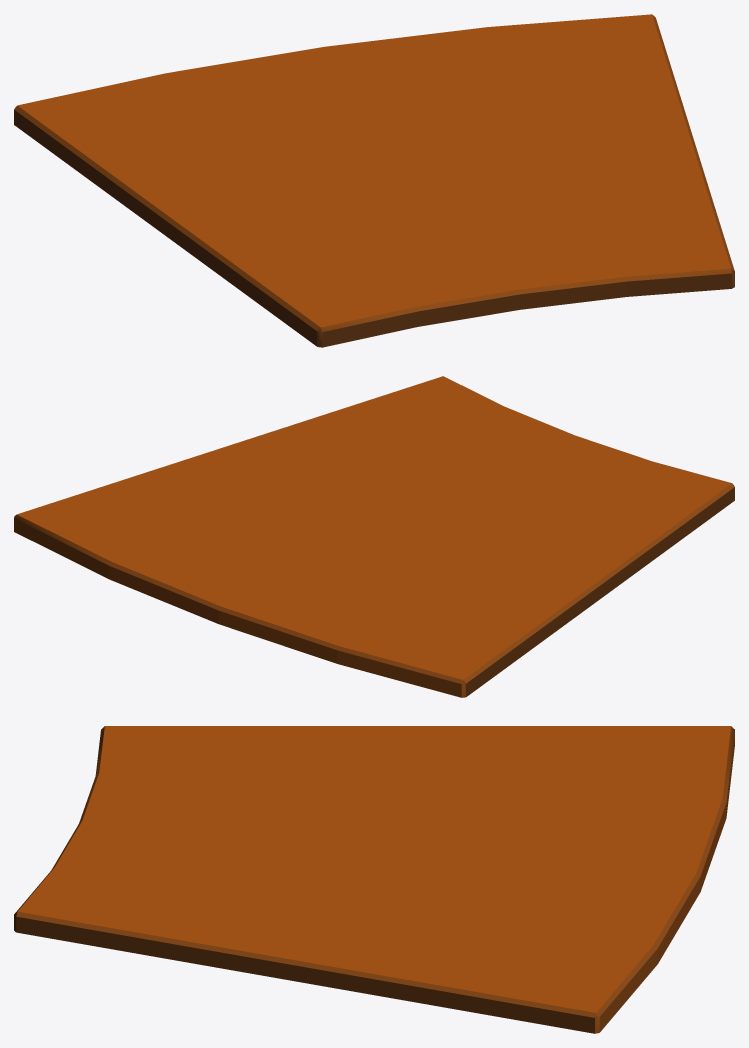
File: ring3.FBX
3 views of the same model, one above another, from view 1: azimuth 30°, elevation 25°; view 2: azimuth 150°, elevation 25°; view 3: azimuth 270°, elevation 25° (orthographic). The views are drawn at different scales.
Visible parts, largest first — view 1: ring3; view 2: ring3; view 3: ring3.
Boxes of the visible parts, x1=… form: ring3: x1=14, y1=14, x2=734, y2=347; ring3: x1=14, y1=376, x2=734, y2=697; ring3: x1=14, y1=726, x2=734, y2=1033.
Size of the model in its own units: 177 by 5.51 by 186.
1 material, 1 textured.
